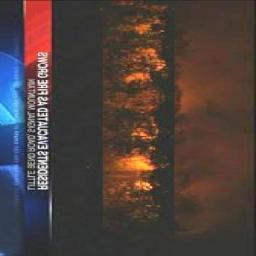Medium fire: (106, 1, 197, 234)
